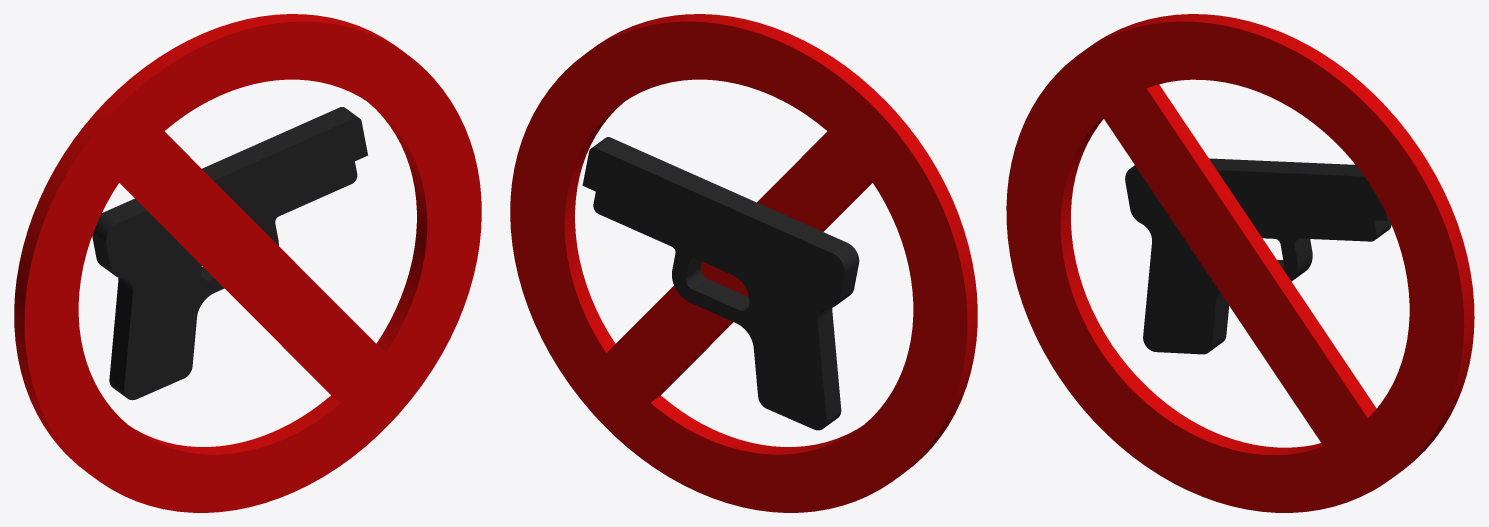
The model's file is Prohibited-1.glb.
The picture shows the model from 3 angles, left to right: view 1: azimuth 30°, elevation 25°; view 2: azimuth 150°, elevation 25°; view 3: azimuth 330°, elevation 25°; orthographic projection.
Visible parts, largest first — view 1: Sign, Gun; view 2: Sign, Gun; view 3: Sign, Gun.
Part boxes in pixels (<box>): Sign: <box>14,14,481,512</box>; Gun: <box>92,107,367,400</box>; Sign: <box>510,14,977,512</box>; Gun: <box>582,137,859,430</box>; Sign: <box>1006,14,1474,512</box>; Gun: <box>1125,158,1391,354</box>.
Bounding box in the file's own units: 0.2551 × 0.2552 × 0.032.
